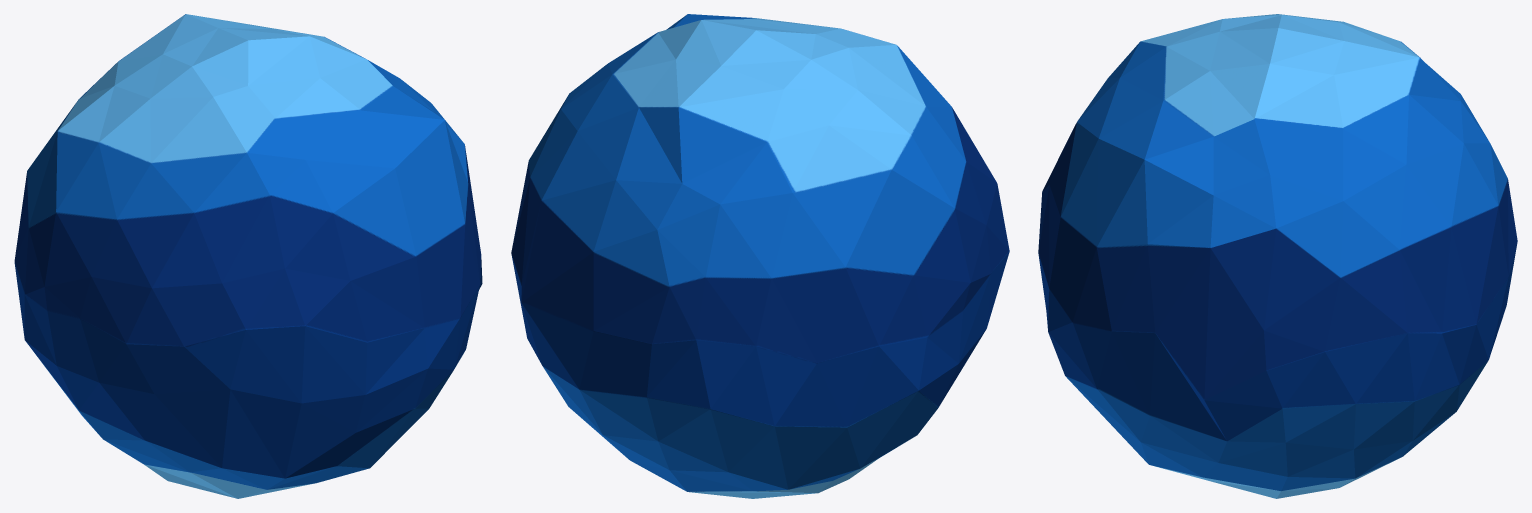
File: planet a_anim.FBX
3 renders of one model, left to right at view 1: azimuth 30°, elevation 25°; view 2: azimuth 150°, elevation 25°; view 3: azimuth 270°, elevation 25°, orthographic. The views are drawn at different scales.
Visible parts, largest first — view 1: Group15818; view 2: Group15818; view 3: Group15818.
Boxes of the visible parts, left/top/right/bottom form: Group15818: left=14, top=14, right=482, bottom=498; Group15818: left=511, top=14, right=1009, bottom=498; Group15818: left=1038, top=14, right=1517, bottom=498.
Size of the model in its own units: 159 by 159 by 155.
